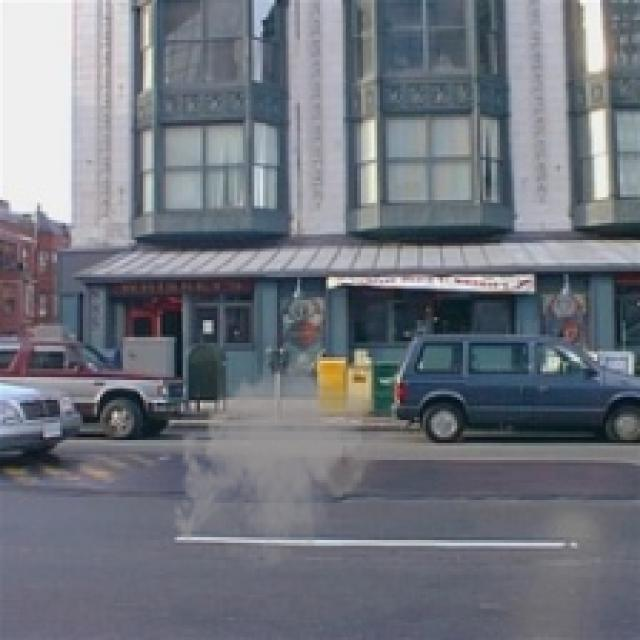smoke: (168, 354, 386, 574)
